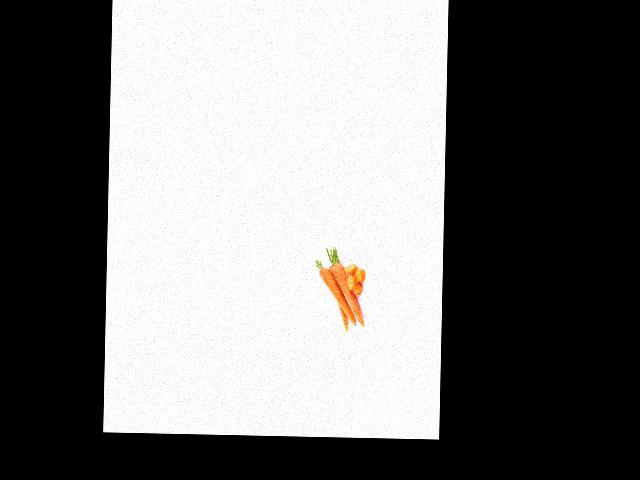carrot: (329, 257, 366, 327)
